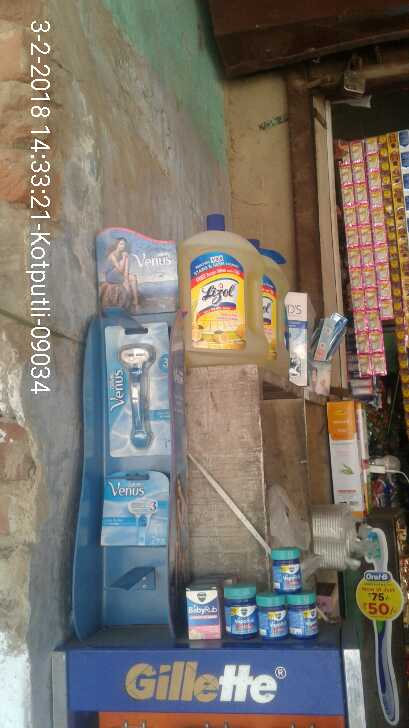beauty: (99, 324, 175, 457), (98, 464, 182, 551)
pharmacy: (183, 581, 225, 640), (225, 579, 260, 645), (253, 594, 288, 646), (282, 588, 317, 639), (266, 548, 304, 594)
